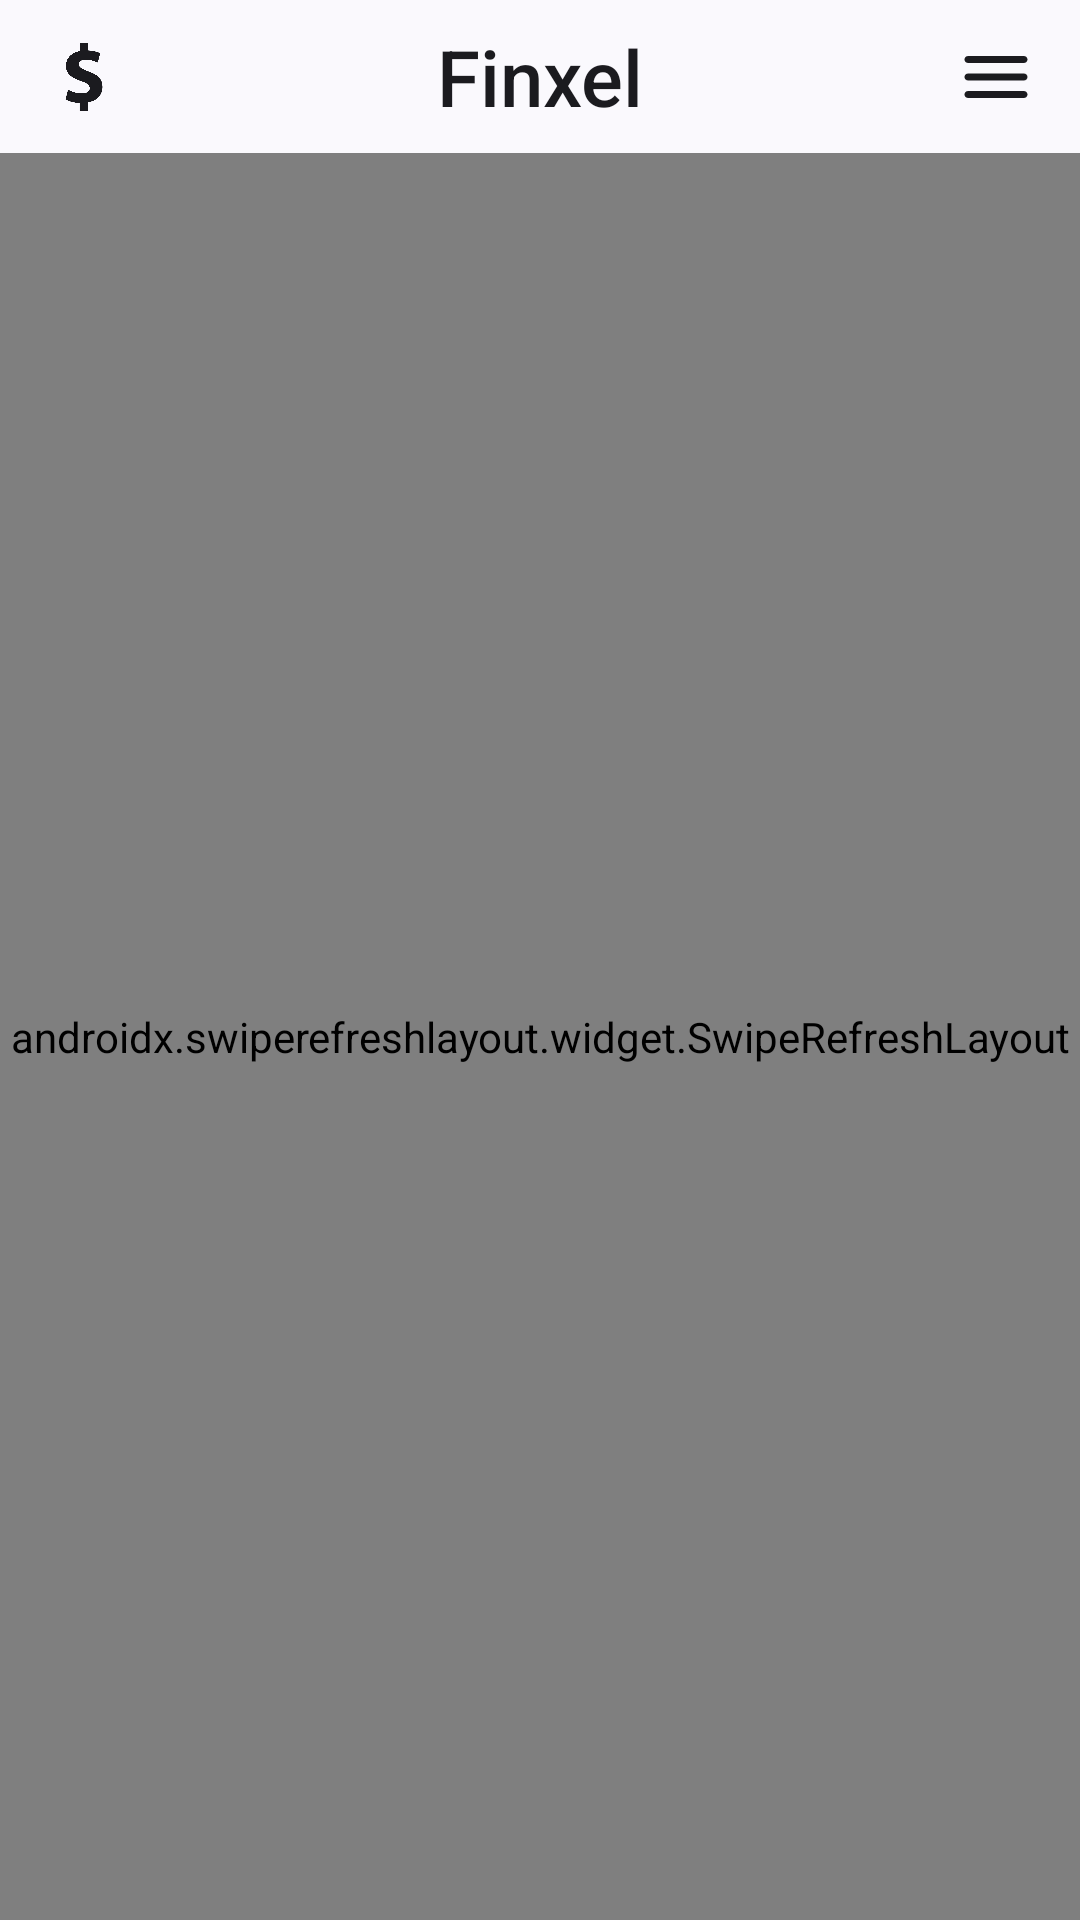

Icons on this 1080*1920 Android screen, each with its box as [x1, y1, x2, y2]:
menu: [964, 56, 1028, 98]
